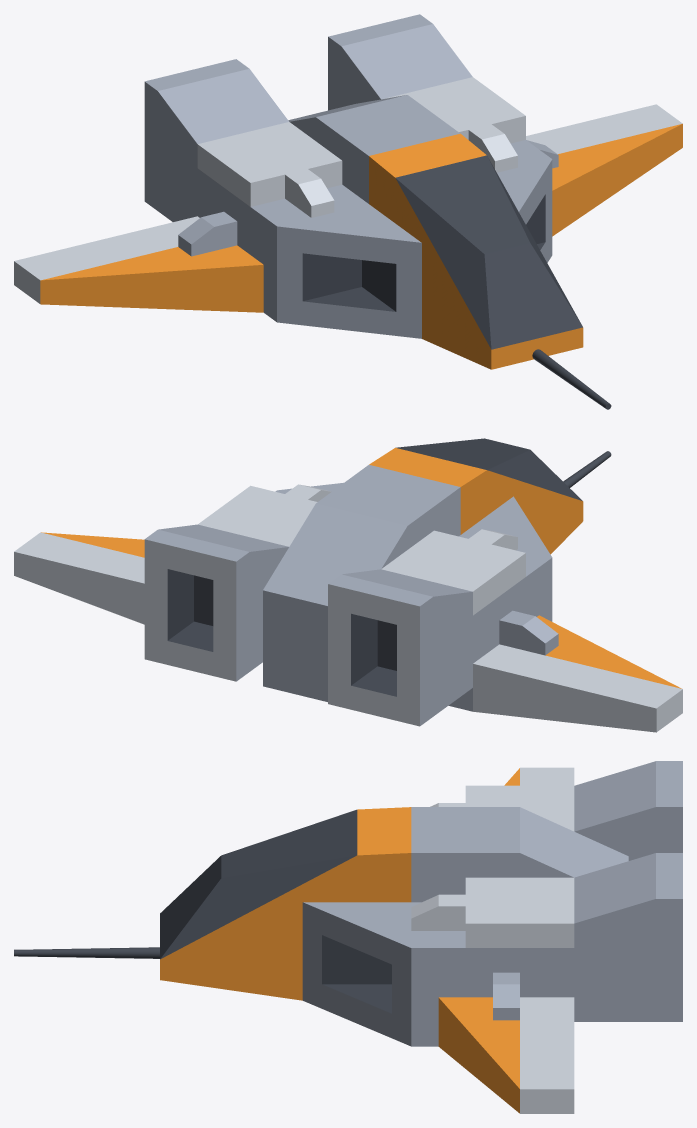
Rendered from sonde_1.glb.
3 renders of one model, top to bottom at view 1: azimuth 30°, elevation 25°; view 2: azimuth 150°, elevation 25°; view 3: azimuth 270°, elevation 25°, orthographic. The views are drawn at different scales.
Visible parts, largest first — view 1: mergedBlocks(Clone); view 2: mergedBlocks(Clone); view 3: mergedBlocks(Clone).
Part boxes in pixels (x1,y1,x2,y2): mergedBlocks(Clone): (14,14,682,409); mergedBlocks(Clone): (14,438,682,732); mergedBlocks(Clone): (14,761,682,1113).
Bounding box in the file's own units: 2.8 × 0.6 × 2.46.
Materials: 1 (1 with a texture image).
